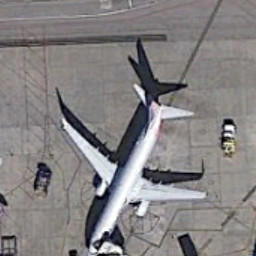Airplane: (53, 71, 217, 256)
